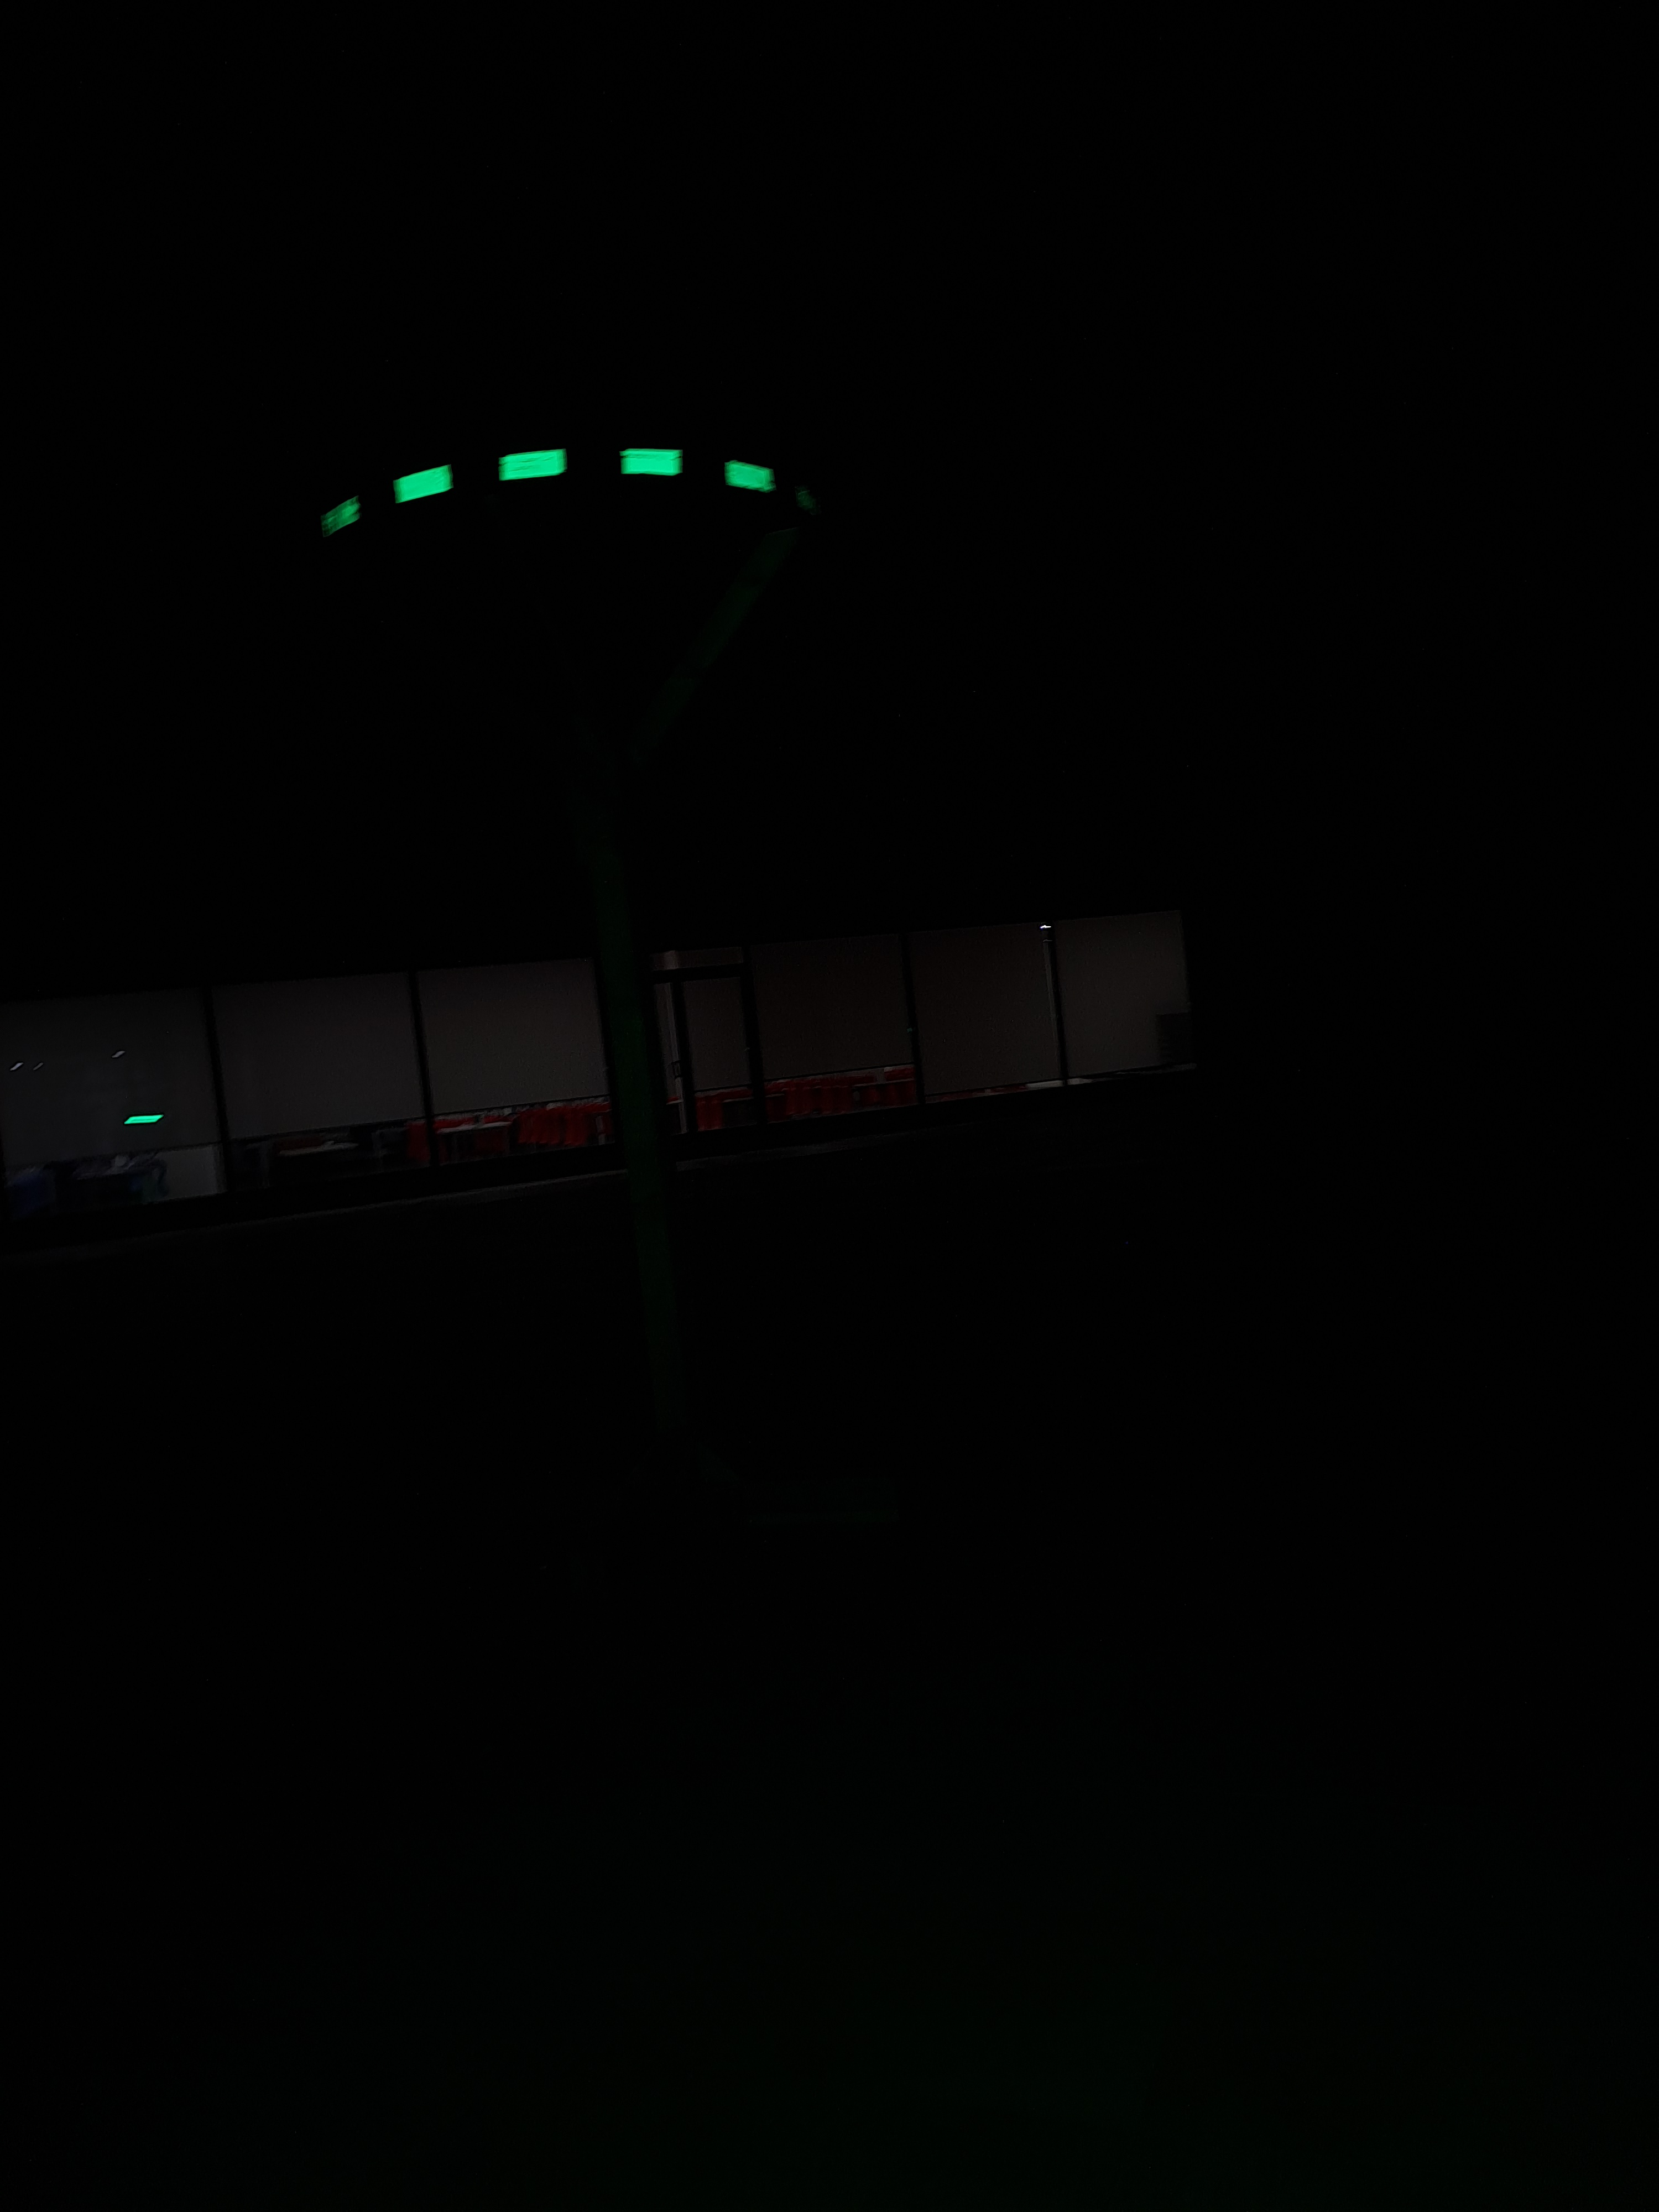hoop: (314, 437, 789, 543)
